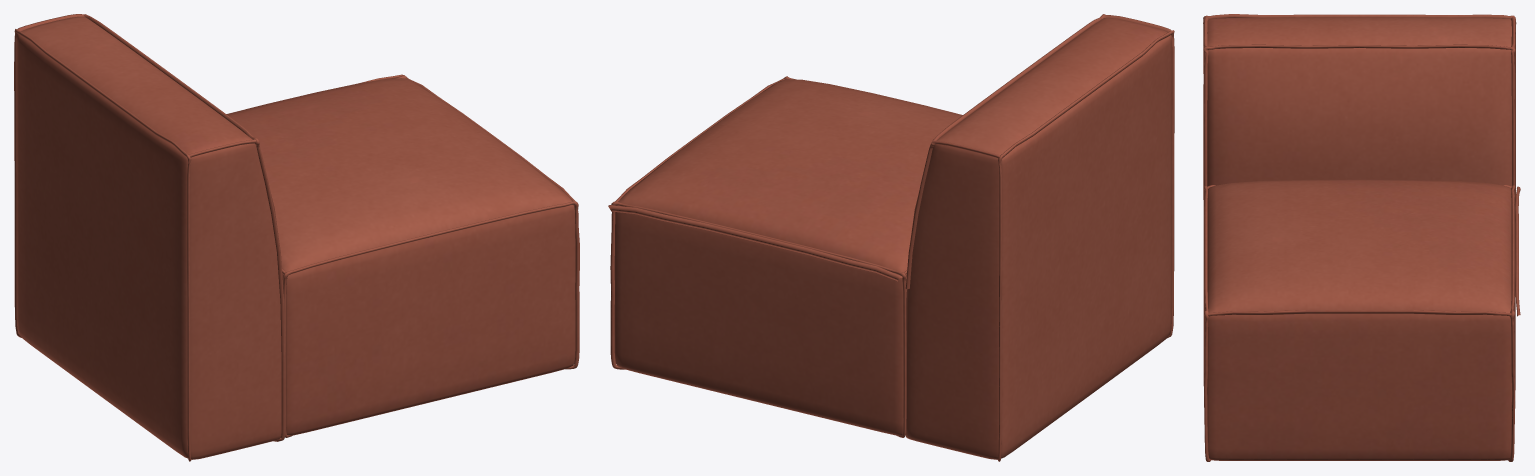
Rendered from cornerMiddle.glb.
3 renders of one model, left to right at view 1: azimuth 30°, elevation 25°; view 2: azimuth 150°, elevation 25°; view 3: azimuth 270°, elevation 25°, orthographic. The views are drawn at different scales.
Visible parts, largest first — view 1: 0_Object022.001_0_Object022.001, 0_Object016.002, 001.001_001.001, 0_Group007.001_0_Group007.001; view 2: 0_Object022.001_0_Object022.001, 0_Object016.002, 001.001_001.001, 0_Group007.001_0_Group007.001, Object018.001_Object018.001; view 3: 0_Object016.002, 0_Object022.001_0_Object022.001, 001.001_001.001, 0_Group007.001_0_Group007.001, Object018.001_Object018.001.
Boxes of the visible parts, bbox=[...] form: 0_Object022.001_0_Object022.001: bbox=[16, 16, 281, 459]; 0_Object016.002: bbox=[226, 78, 575, 435]; 001.001_001.001: bbox=[14, 14, 285, 461]; 0_Group007.001_0_Group007.001: bbox=[282, 75, 579, 437]; 0_Object022.001_0_Object022.001: bbox=[905, 17, 1172, 459]; 0_Object016.002: bbox=[614, 79, 962, 435]; 001.001_001.001: bbox=[905, 14, 1174, 461]; 0_Group007.001_0_Group007.001: bbox=[610, 76, 907, 437]; Object018.001_Object018.001: bbox=[608, 205, 902, 281]; 0_Object016.002: bbox=[1203, 179, 1515, 460]; 0_Object022.001_0_Object022.001: bbox=[1203, 17, 1515, 262]; 001.001_001.001: bbox=[1203, 14, 1516, 214]; 0_Group007.001_0_Group007.001: bbox=[1204, 185, 1515, 461]; Object018.001_Object018.001: bbox=[1515, 186, 1520, 316].
Bounding box in the file's own units: 0.9298 × 0.7106 × 0.7218.
1 material, 1 textured.
